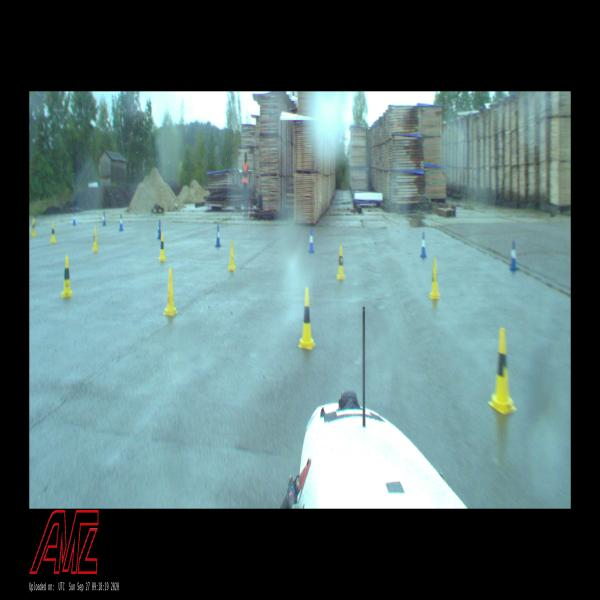blue_cone: (509, 241, 518, 271), (420, 232, 427, 258), (308, 229, 315, 254), (157, 219, 162, 239), (216, 225, 220, 246), (119, 214, 123, 231), (102, 210, 106, 226), (73, 211, 76, 226)
yellow_cone: (488, 328, 517, 414), (299, 288, 316, 350), (162, 267, 178, 317), (428, 259, 441, 299), (61, 255, 72, 298), (336, 246, 345, 279), (228, 239, 236, 270), (159, 233, 166, 261), (92, 228, 99, 252), (51, 222, 56, 242), (31, 218, 36, 237)
